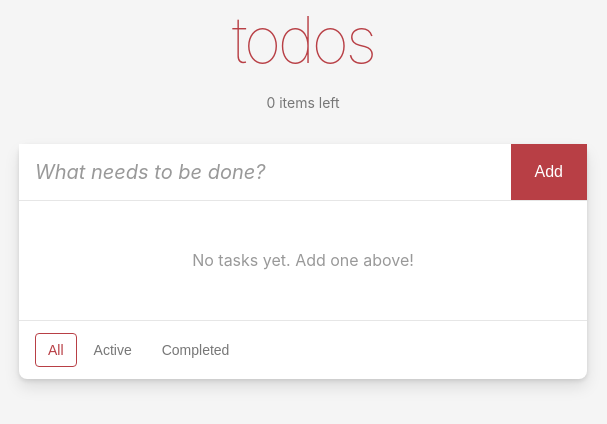
Test: TodoApp › clears completed tasks
Type "Task to clear" into the field named "New todo".
click(265, 172); type("Task to clear")  # box [19,144,510,200]
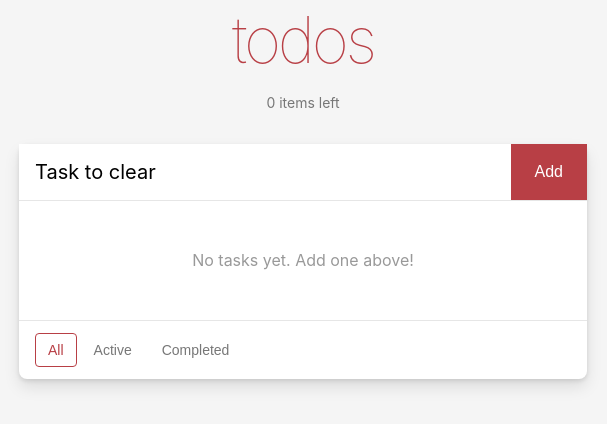
Press Enter in the field named "New todo", box [19,144,510,200]
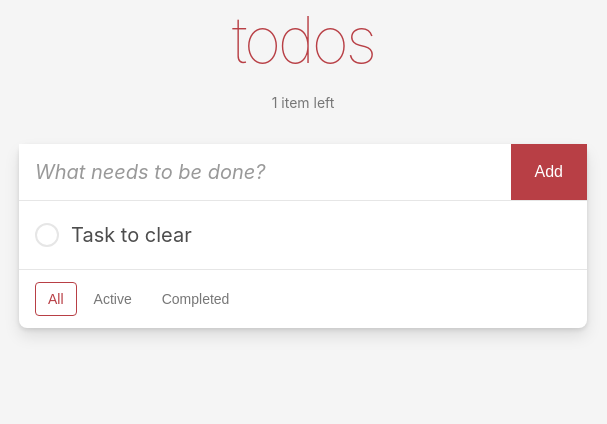
Type "Task to keep" into the field named "New todo".
click(265, 172); type("Task to keep")  # box [19,144,510,200]
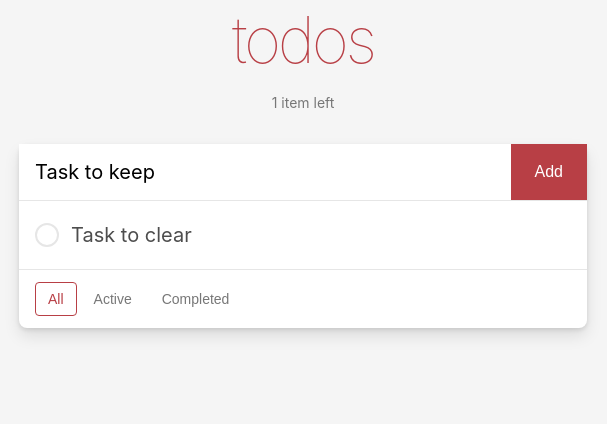
Press Enter in the field named "New todo", box [19,144,510,200]
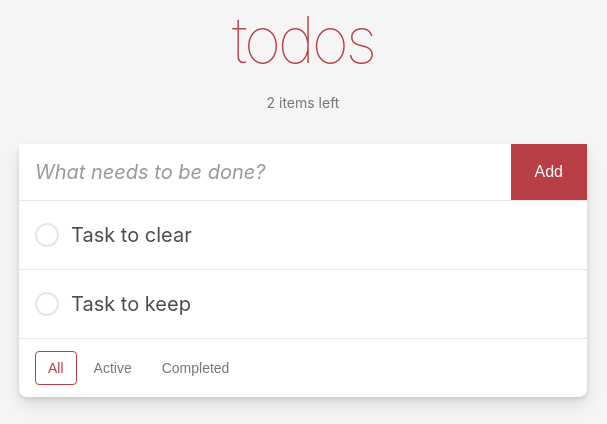
Click the checkbox named "mark \"task to clear\"".
click(113, 235)  # box [35,223,192,247]
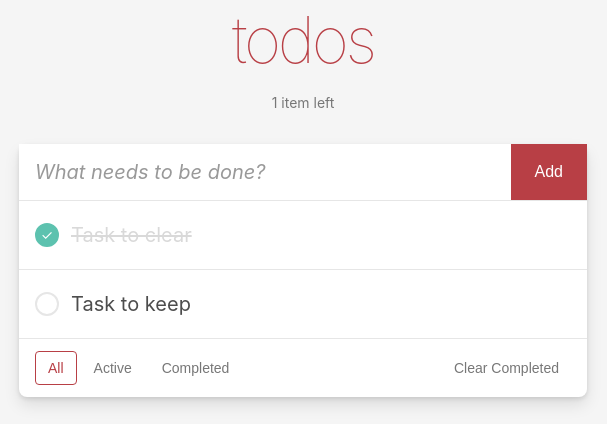
Click the button "Clear Completed".
click(506, 368)  # box [442,352,571,384]
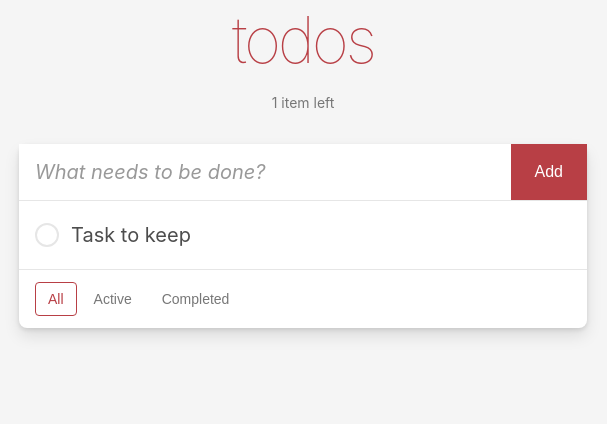
Now the text "Task to keep" is shown, box [71,221,191,249]
Now the text "Task to clear" is gone
Now the button "Clear Completed" is gone
